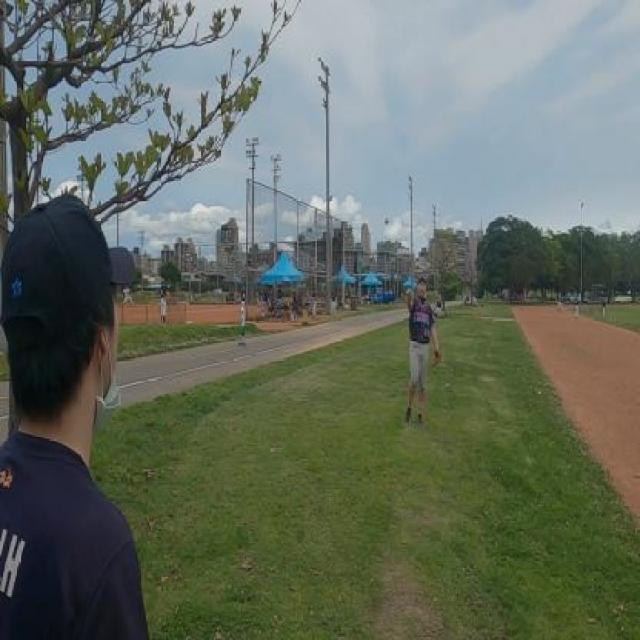baseball: (385, 217, 389, 225)
